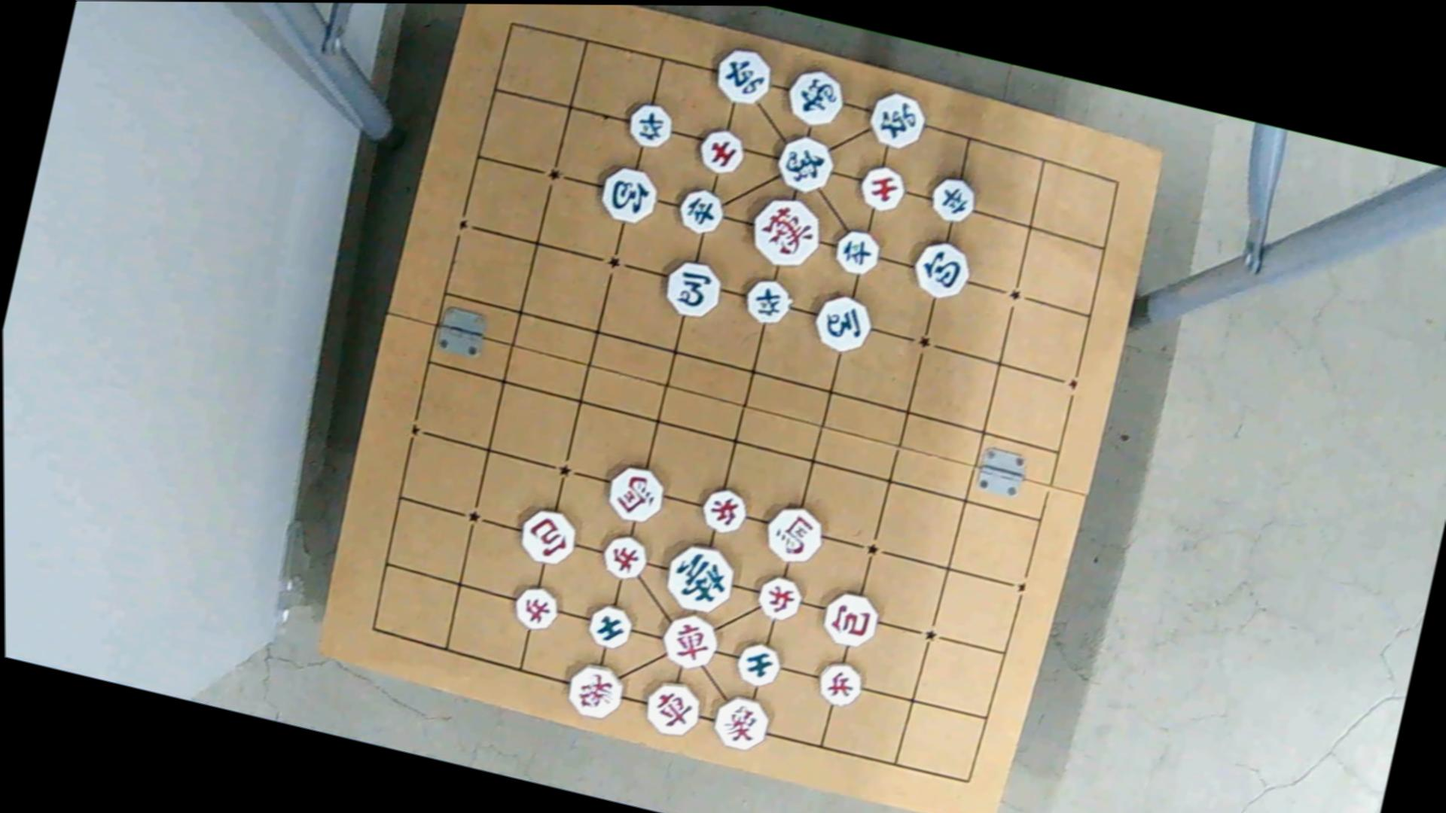cha_green: (861, 88, 928, 150), (708, 45, 776, 106)
cha_red: (654, 609, 724, 671), (639, 678, 706, 737)
jol_green: (825, 225, 883, 276), (739, 276, 796, 325), (621, 99, 678, 148), (923, 176, 978, 224), (675, 185, 724, 236)
jol_red: (693, 483, 751, 534), (595, 532, 651, 582), (810, 659, 867, 708), (507, 584, 563, 633), (751, 574, 807, 623)
ma_green: (657, 254, 728, 317), (804, 292, 875, 354)
ma_red: (760, 498, 828, 566), (600, 463, 670, 523)
po_green: (591, 163, 663, 224), (910, 238, 972, 303)
po_red: (815, 588, 885, 650), (514, 506, 582, 567)
sa_green: (729, 638, 785, 686), (581, 602, 635, 650)
sa_red: (691, 124, 749, 179), (852, 161, 911, 212)
sang_green: (772, 136, 840, 197), (780, 66, 847, 126)
sang_red: (560, 660, 630, 720), (703, 691, 773, 751)
wang_green: (659, 543, 738, 613)
wang_red: (740, 193, 825, 269)
